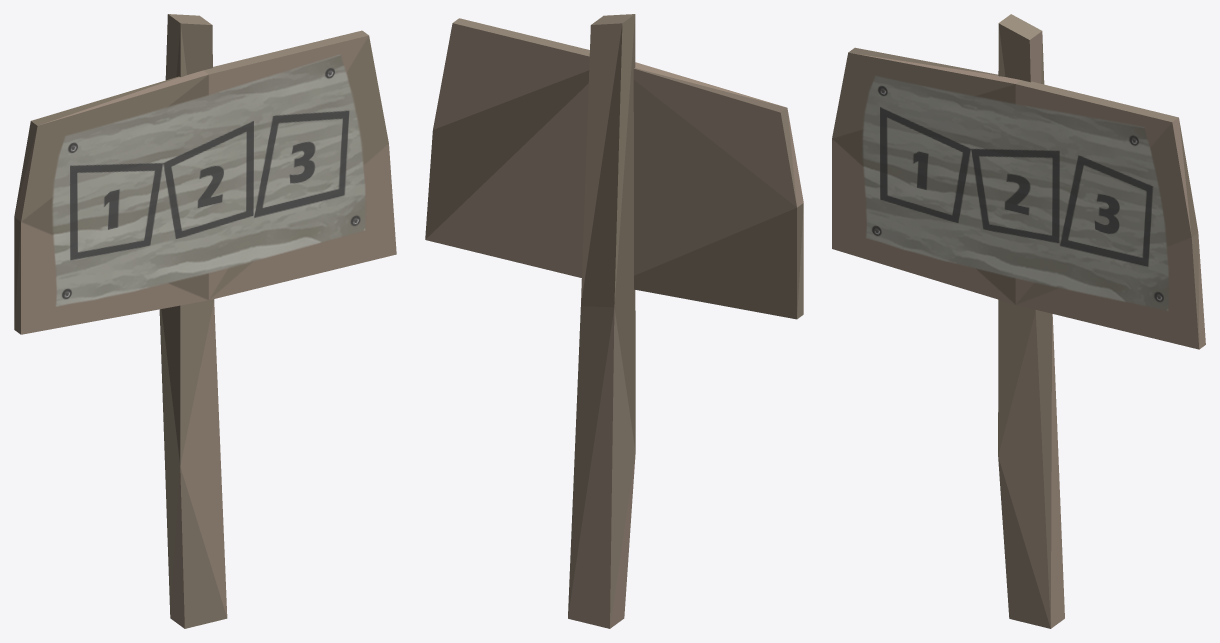
The model's file is cartel_ejercicios_secuencias.FBX.
The picture shows the model from 3 angles, left to right: view 1: azimuth 30°, elevation 25°; view 2: azimuth 150°, elevation 25°; view 3: azimuth 330°, elevation 25°; orthographic projection. The views are drawn at different scales.
Visible parts, largest first — view 1: Poste005; view 2: Poste005; view 3: Poste005.
Part boxes in pixels (x1,y1,x2,y2): Poste005: [14, 14, 396, 628]; Poste005: [425, 14, 803, 628]; Poste005: [832, 14, 1205, 628].
Size of the model in its own units: 87.02 by 135 by 10.74.
Materials: 1 (1 with a texture image).
